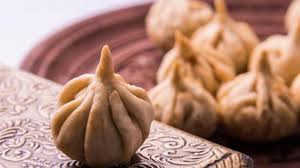modak: (43, 45, 168, 161), (222, 56, 297, 144), (144, 59, 223, 137)
